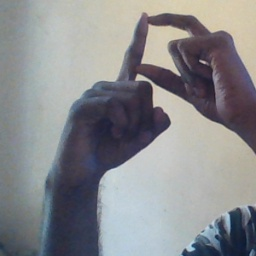D: (94, 4, 232, 129)
